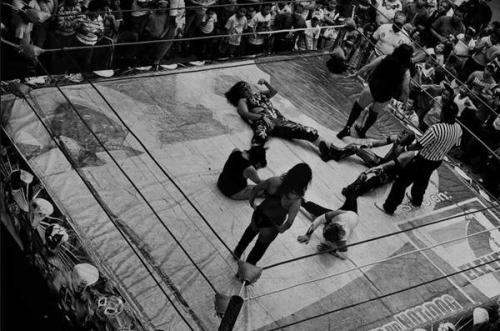10+: (2, 1, 500, 280)
down: (222, 75, 360, 163), (296, 194, 363, 259), (318, 127, 418, 170), (214, 147, 277, 207)
